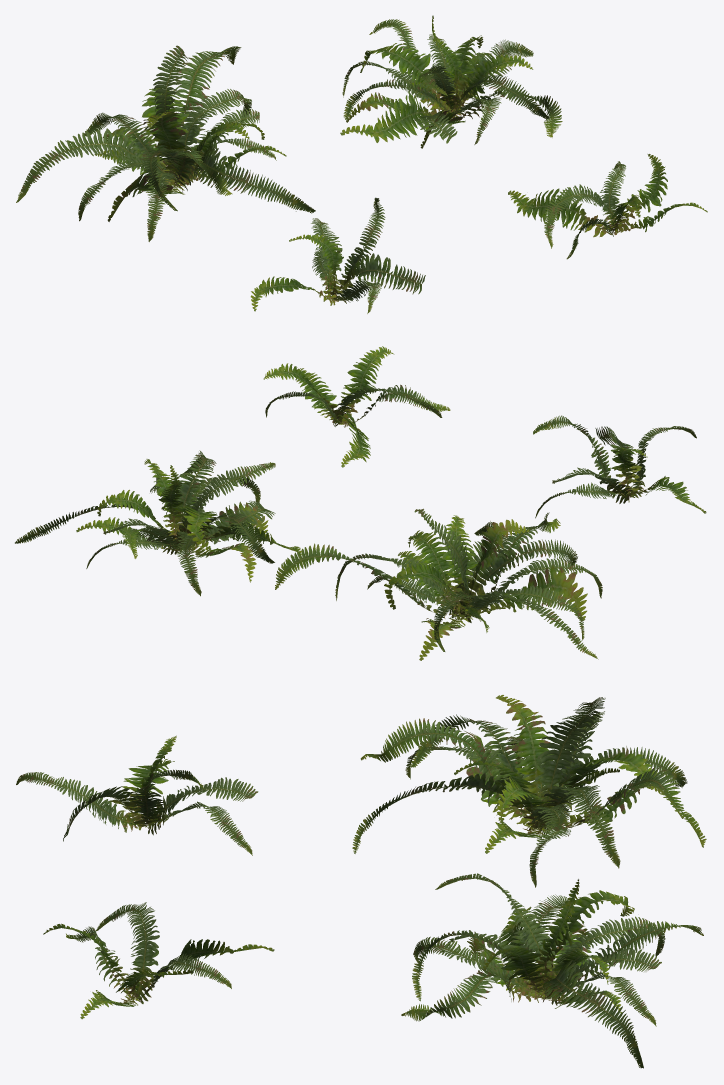
Rendered from fern_02_2k.gltf.
The picture shows the model from 3 angles, top to bottom: view 1: azimuth 30°, elevation 25°; view 2: azimuth 150°, elevation 25°; view 3: azimuth 270°, elevation 25°; orthographic projection. The views are drawn at different scales.
Visible parts, largest first — view 1: fern_02_b, fern_02_c, fern_02_a, fern_02_d; view 2: fern_02_b, fern_02_c, fern_02_d, fern_02_a; view 3: fern_02_b, fern_02_c, fern_02_a, fern_02_d.
Boxes of the visible parts, left/top/right/bottom form: fern_02_b: left=16, top=45, right=315, bottom=241; fern_02_c: left=340, top=15, right=562, bottom=148; fern_02_a: left=250, top=197, right=425, bottom=313; fern_02_d: left=508, top=154, right=707, bottom=259; fern_02_b: left=275, top=508, right=602, bottom=660; fern_02_c: left=15, top=450, right=301, bottom=596; fern_02_d: left=263, top=346, right=450, bottom=467; fern_02_a: left=533, top=415, right=706, bottom=518; fern_02_b: left=352, top=695, right=706, bottom=887; fern_02_c: left=401, top=873, right=703, bottom=1068; fern_02_a: left=16, top=735, right=258, bottom=855; fern_02_d: left=43, top=902, right=274, bottom=1019.
Bounding box in the file's own units: 1.97 × 0.4277 × 1.72.
Materials: 1 (1 with a texture image).
